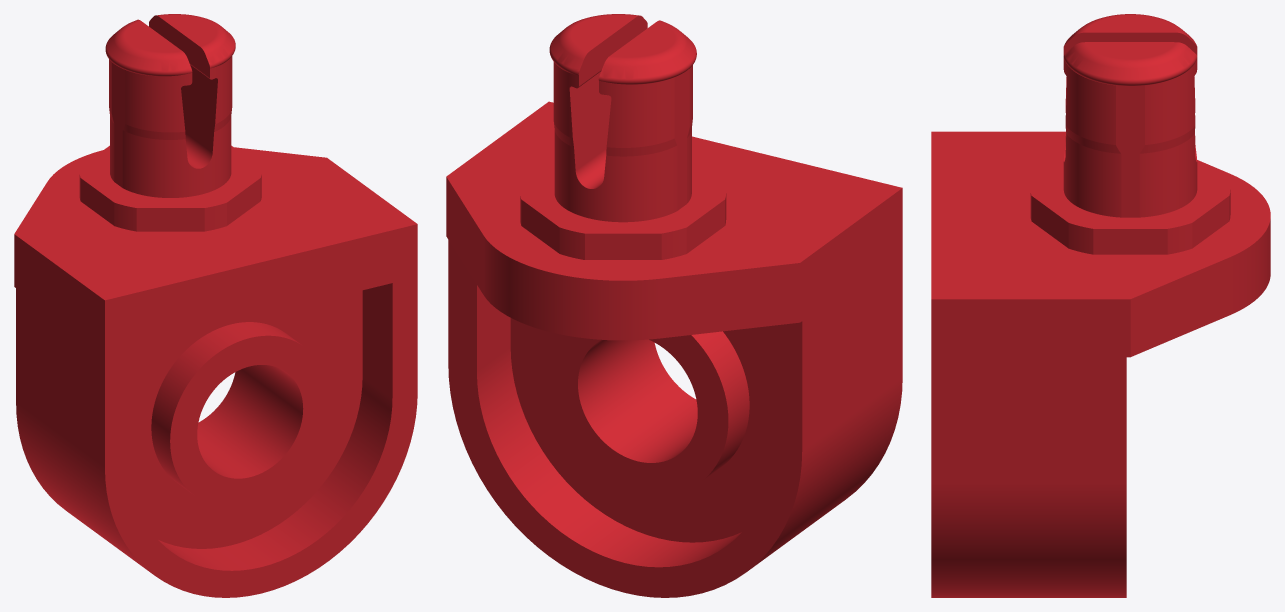
3 views of the same model, side by side, from view 1: azimuth 30°, elevation 25°; view 2: azimuth 150°, elevation 25°; view 3: azimuth 270°, elevation 25° (orthographic). The views are drawn at different scales.
Parts seen in each view (by area): view 1: 228-2500-2288; view 2: 228-2500-2288; view 3: 228-2500-2288.
Part boxes in pixels (bbox=[...]): 228-2500-2288: bbox=[14, 14, 417, 597]; 228-2500-2288: bbox=[446, 14, 902, 597]; 228-2500-2288: bbox=[931, 14, 1270, 597].
Bounding box in the file's own units: 0.0124 × 0.0187 × 0.0106.
